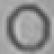no answer: (5, 1, 52, 50)
